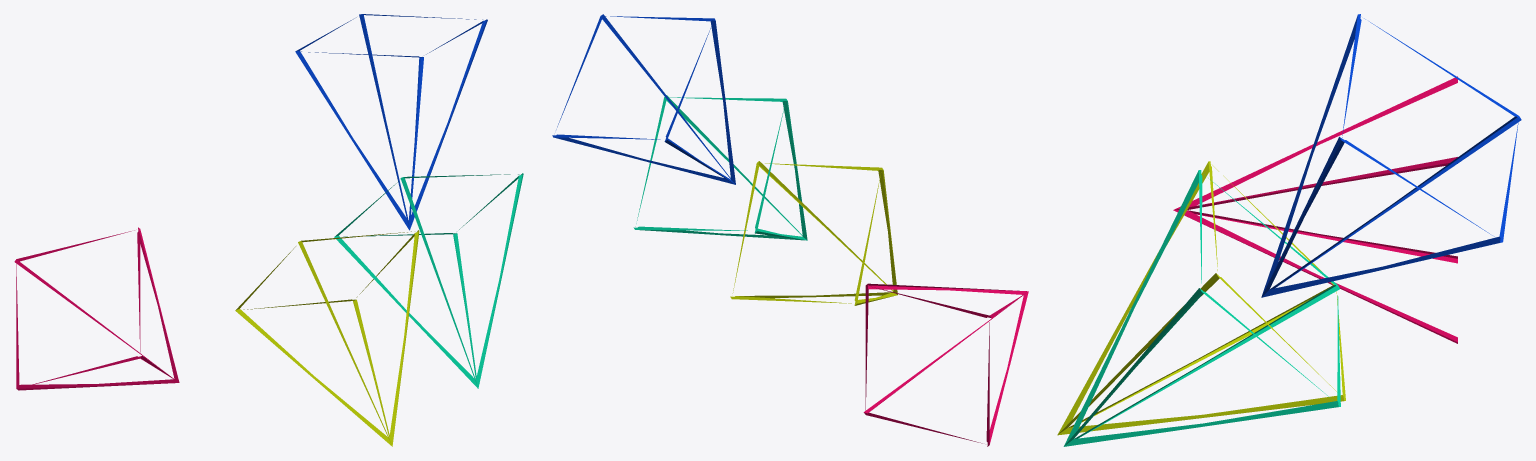
The model's file is wrist_video_30.glb.
3 renders of one model, left to right at view 1: azimuth 30°, elevation 25°; view 2: azimuth 150°, elevation 25°; view 3: azimuth 270°, elevation 25°, orthographic. The views are drawn at different scales.
Visible parts, largest first — view 1: world; view 2: world; view 3: world.
Boxes of the visible parts, x1,y1,x2,y2 form: world: [14, 14, 523, 446]; world: [552, 14, 1028, 446]; world: [1057, 14, 1521, 446].
Bounding box in the file's own units: 0.3883 × 0.2884 × 0.2564.
